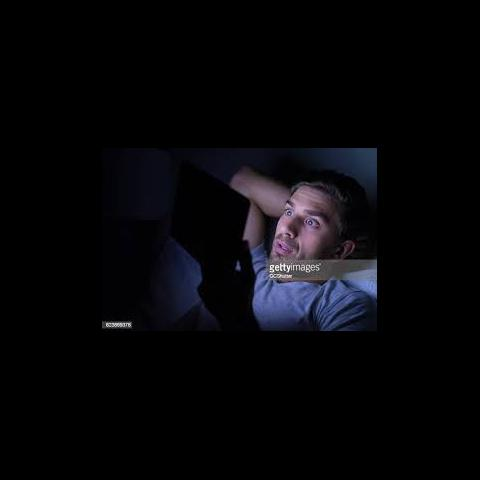opened: (280, 203, 327, 236)
